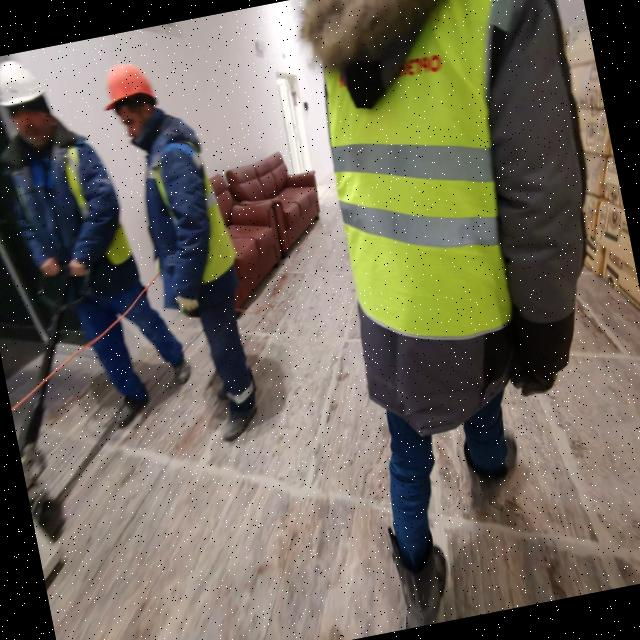Helmet: (99, 62, 161, 114), (1, 58, 48, 112)
Jacket: (309, 1, 532, 353), (137, 136, 240, 289), (14, 144, 125, 284)
